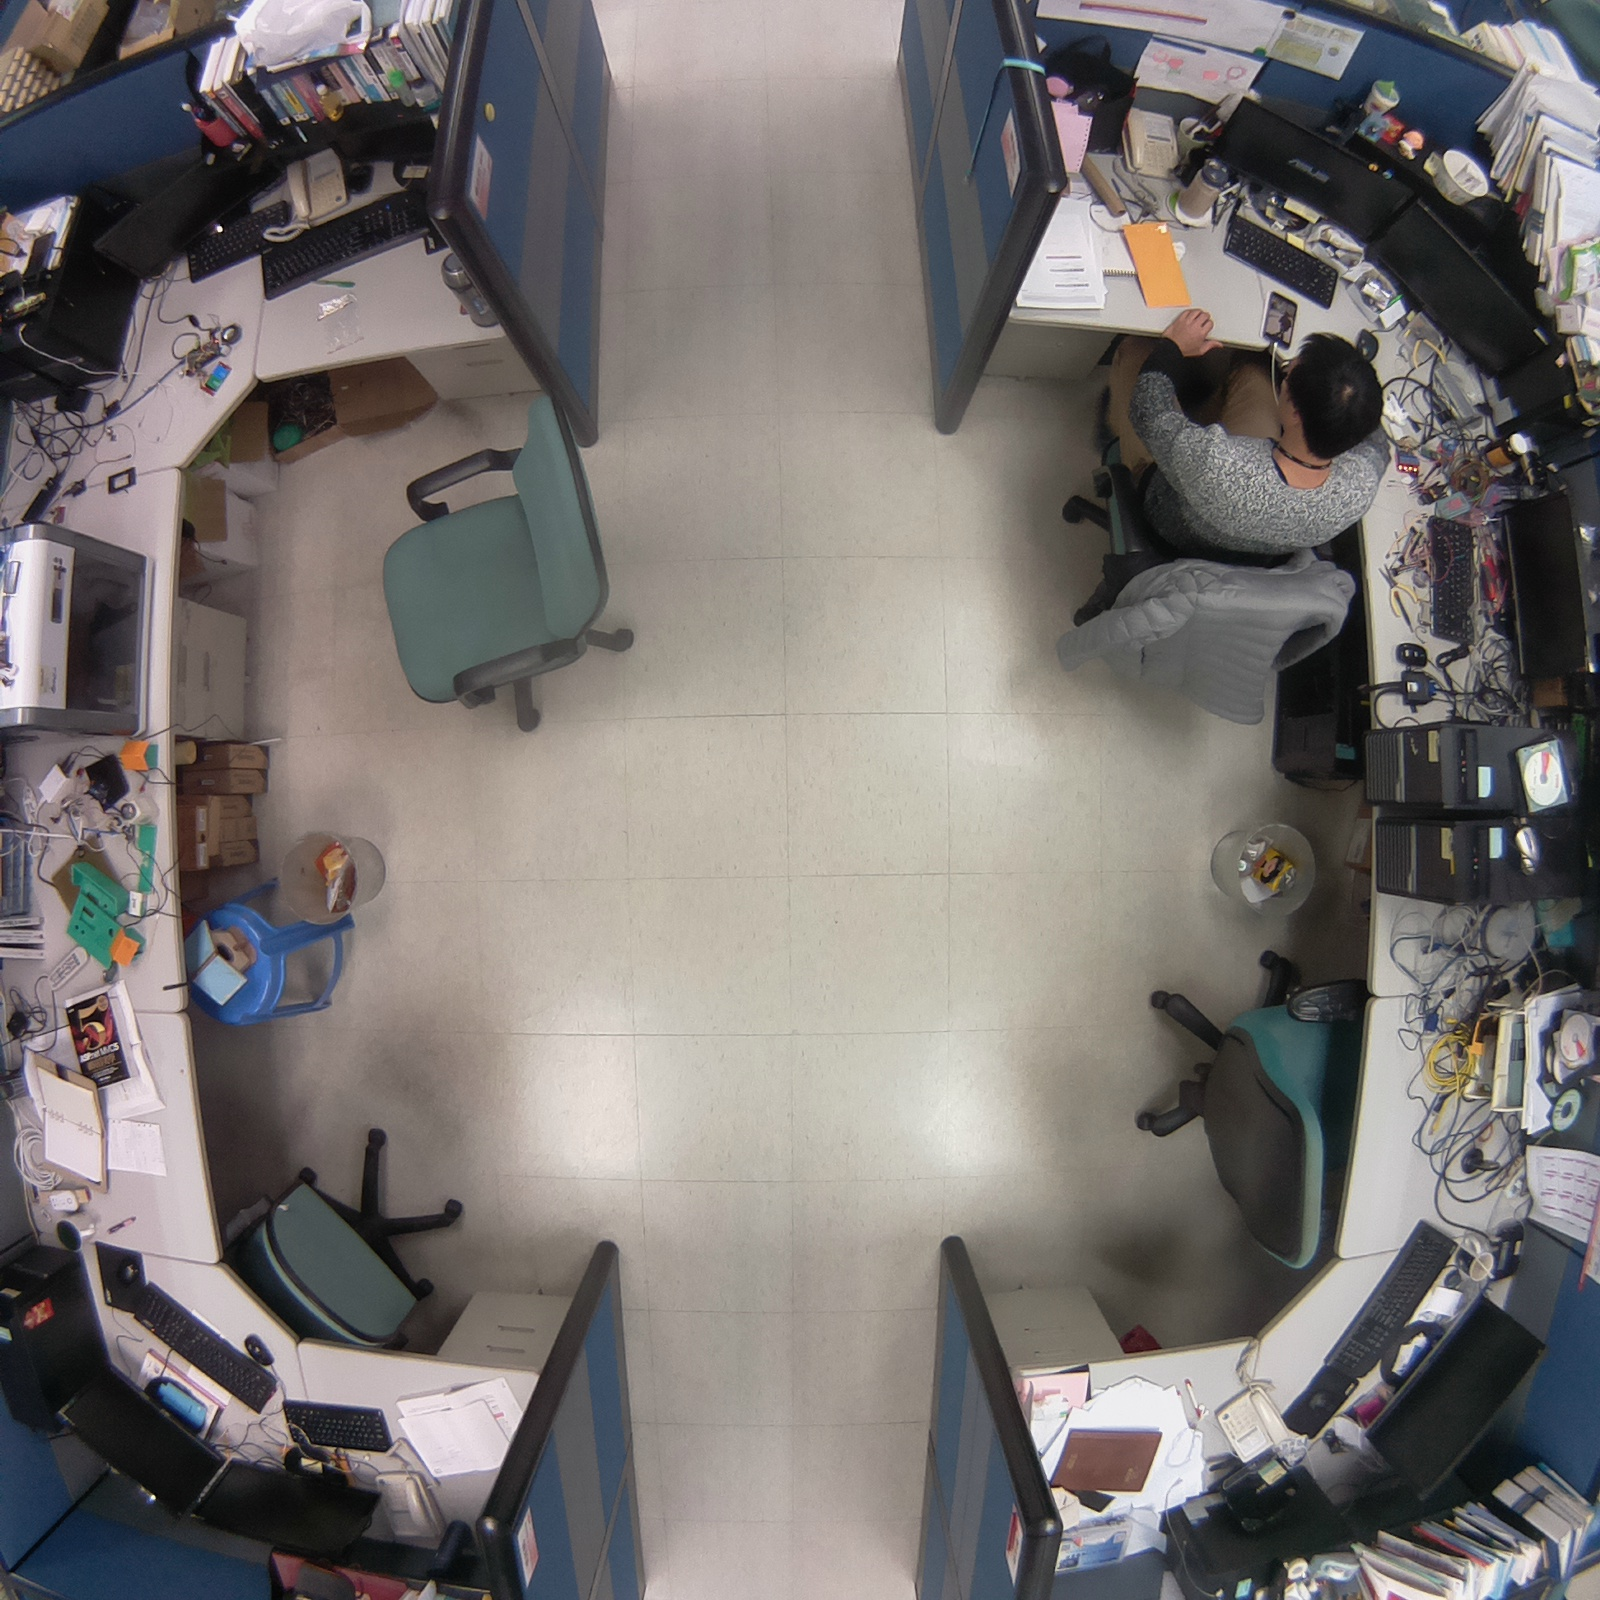chair: (355, 375, 677, 762), (1116, 942, 1370, 1286), (196, 1109, 484, 1377)
sitting: (1023, 289, 1417, 744)
